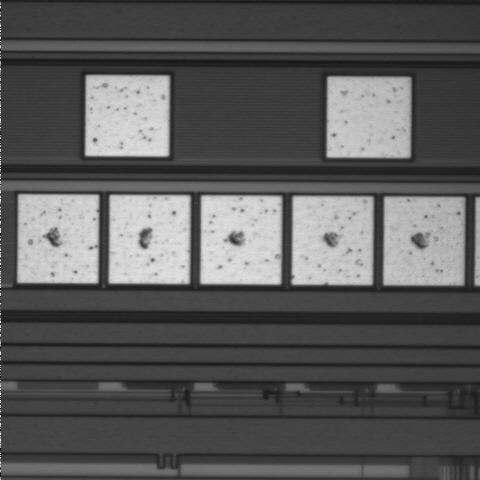pad: (109, 195, 190, 284), (18, 195, 98, 283), (201, 196, 281, 284), (292, 197, 372, 285), (384, 198, 463, 285), (86, 76, 169, 156), (327, 78, 409, 157)
